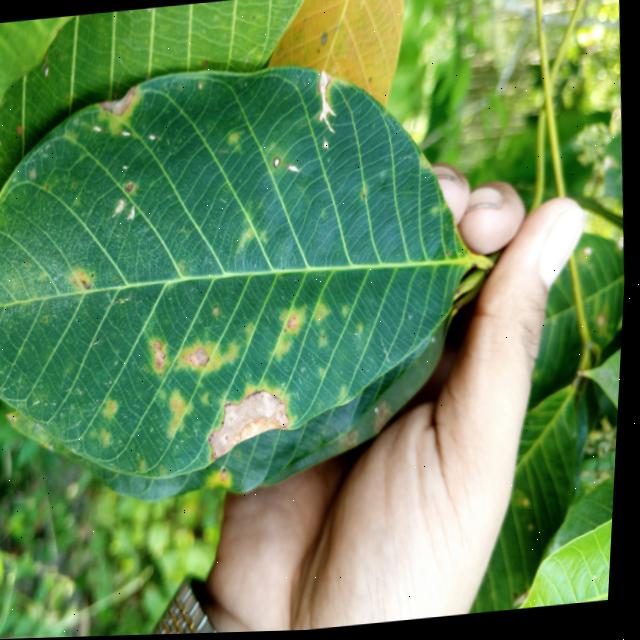Colletotrichum: (274, 156, 283, 168), (203, 61, 209, 67)
Leaf-Blight: (209, 387, 298, 462), (316, 70, 340, 136), (98, 84, 138, 118)
